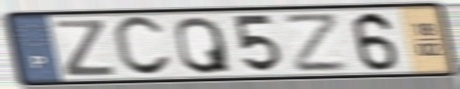5: (232, 12, 285, 75)
6: (349, 10, 401, 73)
C: (110, 14, 176, 79)
Q: (173, 14, 235, 76)
Z: (282, 11, 351, 75), (53, 18, 118, 78)
